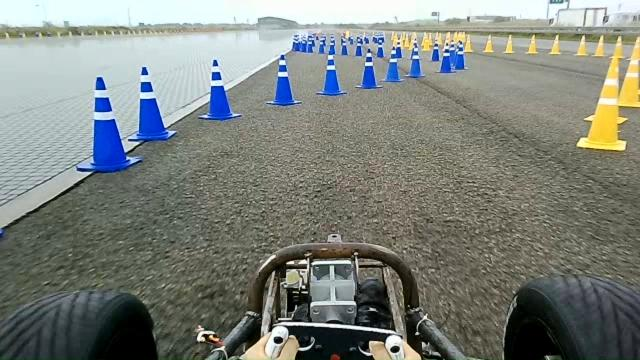blue cone: (76, 75, 142, 173), (127, 65, 177, 142), (198, 59, 242, 120), (265, 54, 302, 106), (316, 52, 345, 96), (355, 48, 383, 89), (380, 46, 405, 82), (404, 43, 425, 78), (435, 43, 455, 73), (454, 42, 466, 70)
yellow cone: (576, 57, 629, 151), (585, 55, 628, 126), (612, 50, 640, 110), (546, 32, 564, 55), (610, 35, 626, 59), (525, 31, 541, 55), (591, 34, 607, 57), (502, 30, 516, 55), (626, 36, 639, 60), (574, 34, 588, 56), (484, 30, 496, 54)
